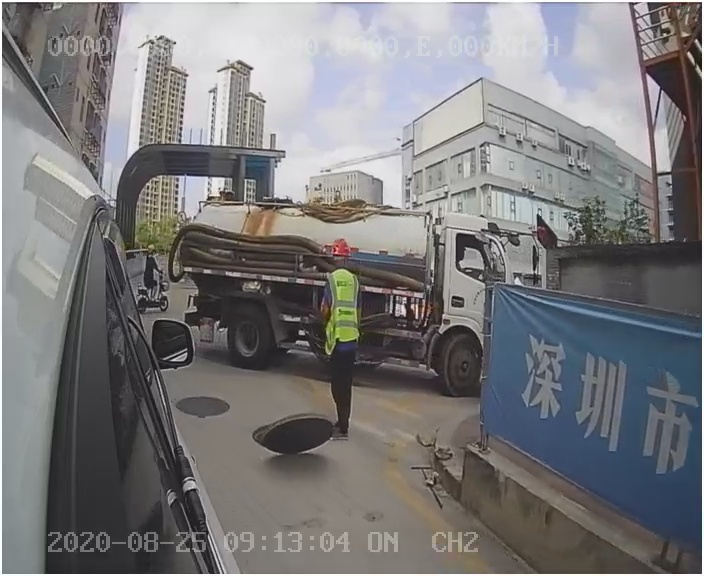person: (314, 238, 362, 440)
